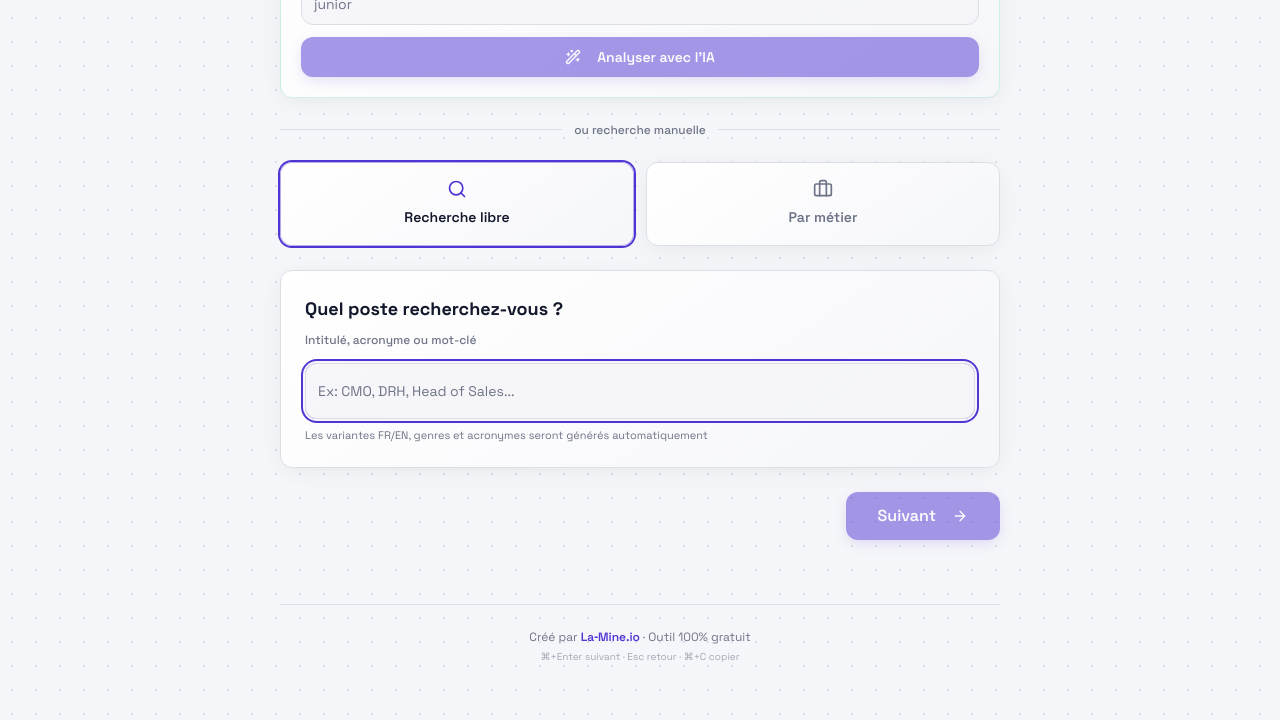
BooleanGenerator › should copy boolean query to clipboard from step 3
(page scrolled)
# Navigate to step 3
Type "DRH" into the field with placeholder "Ex: CMO, DRH, Head of Sales..." at (640, 390), box [305,362,975,418]
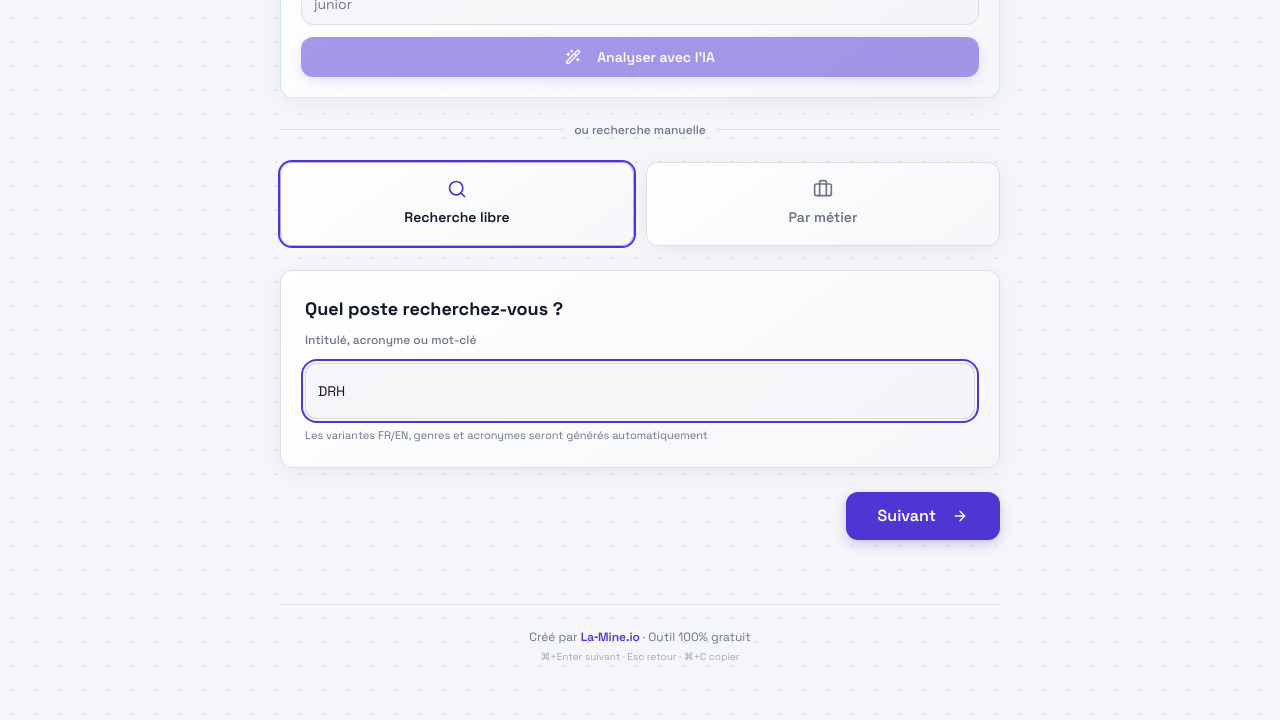
Click the button "Suivant" at (923, 516), box [846,492,1000,540]
(page scrolled)
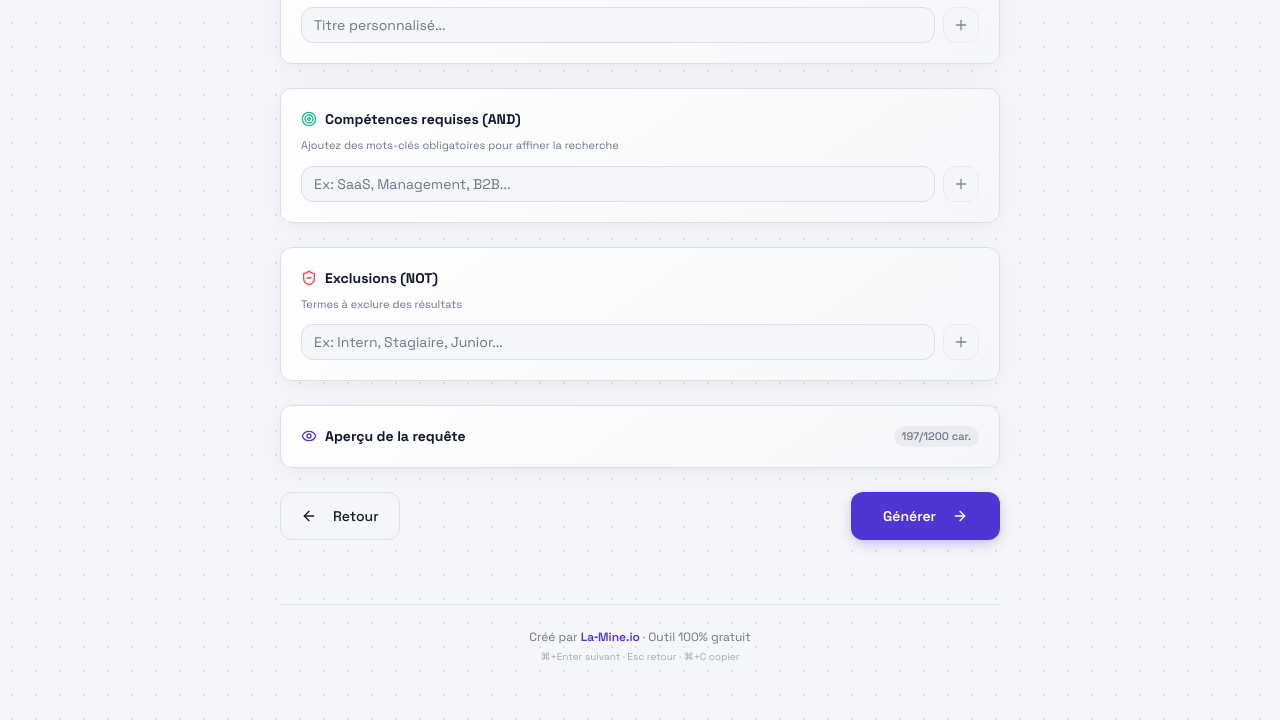
Expected: the button "Générer" is shown
Click the button "Générer" at (926, 516), box [851,492,1000,540]
(page scrolled)
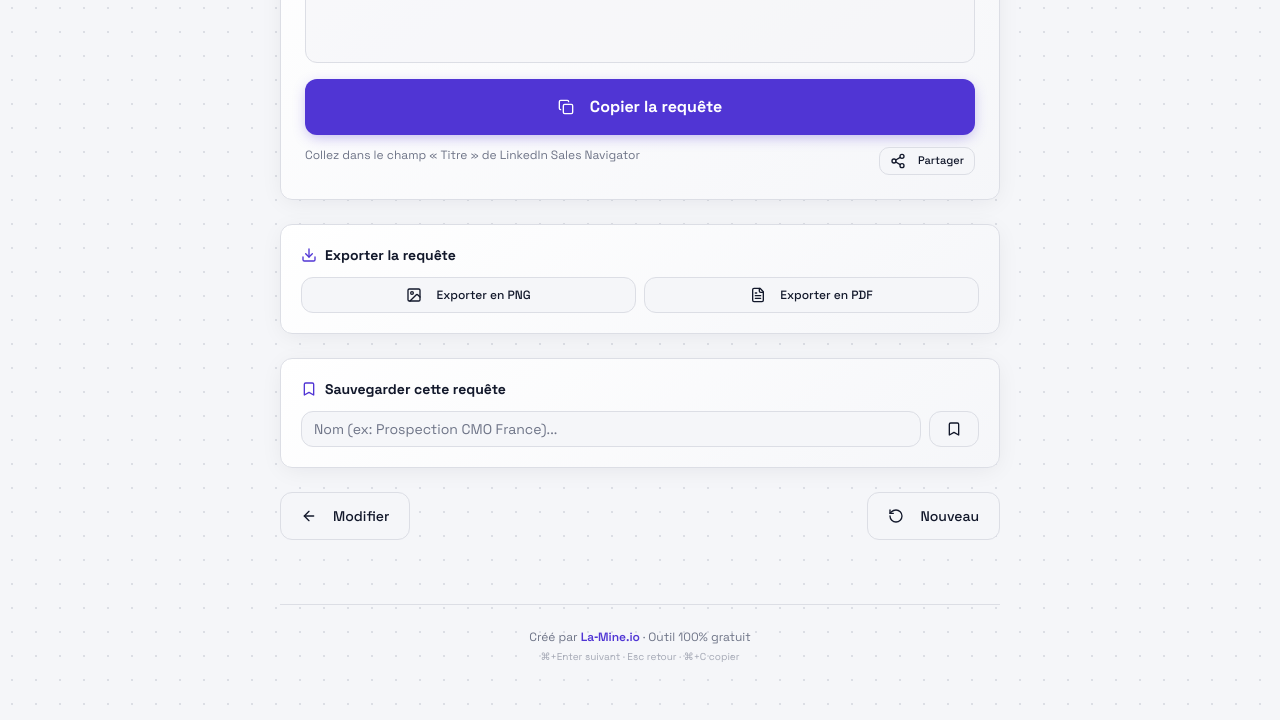
Expected: the button "Copier la requête" is shown
Click the button "Copier la requête" at (640, 106), box [305,78,975,134]
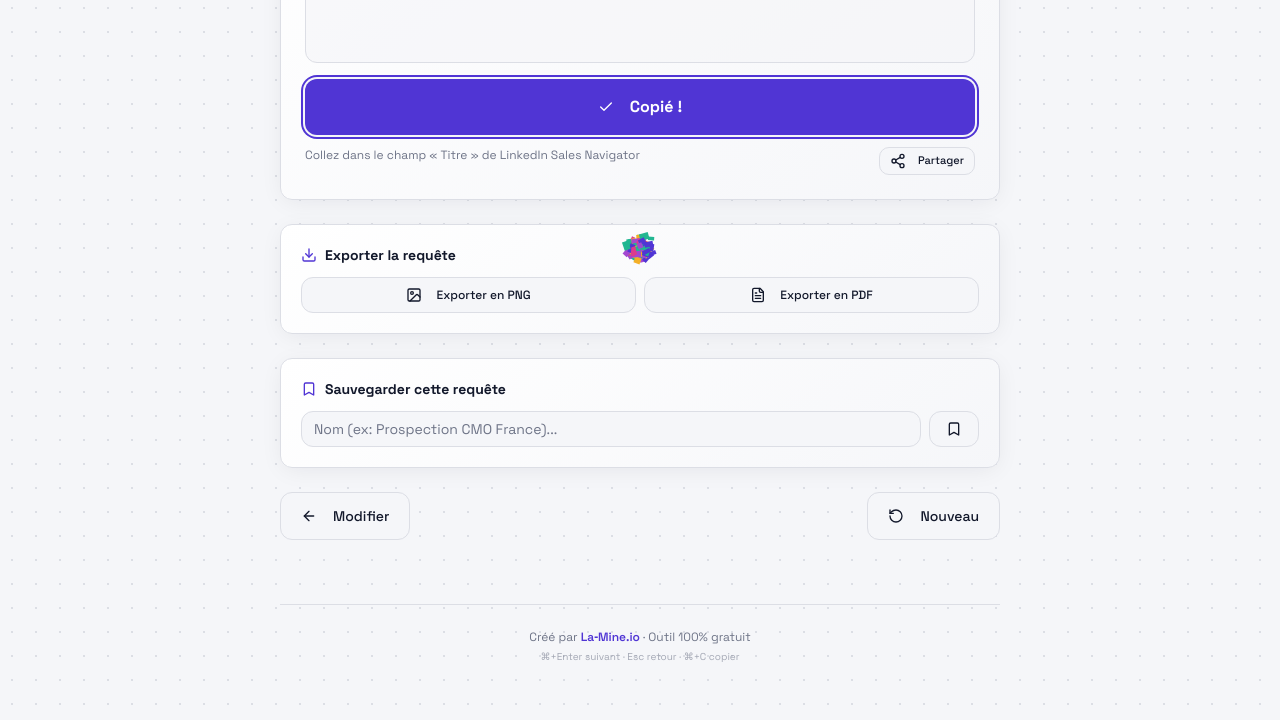
Expected: the button "Copié !" is shown, [305,78,975,134]
